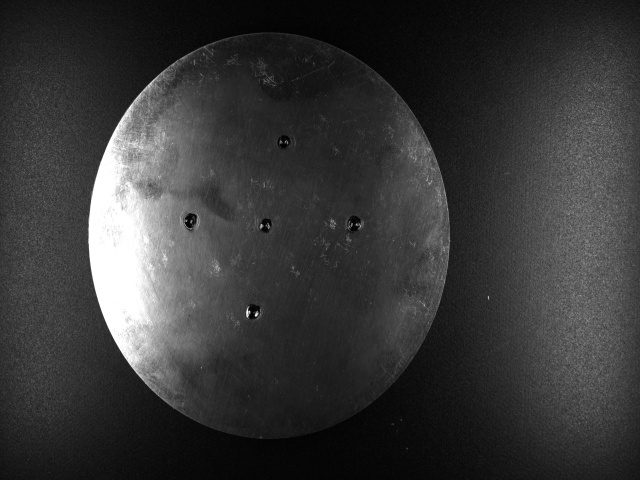zhen_kong: (243, 302, 266, 324), (181, 210, 201, 233), (343, 214, 366, 233), (255, 217, 277, 234), (276, 133, 293, 152)
